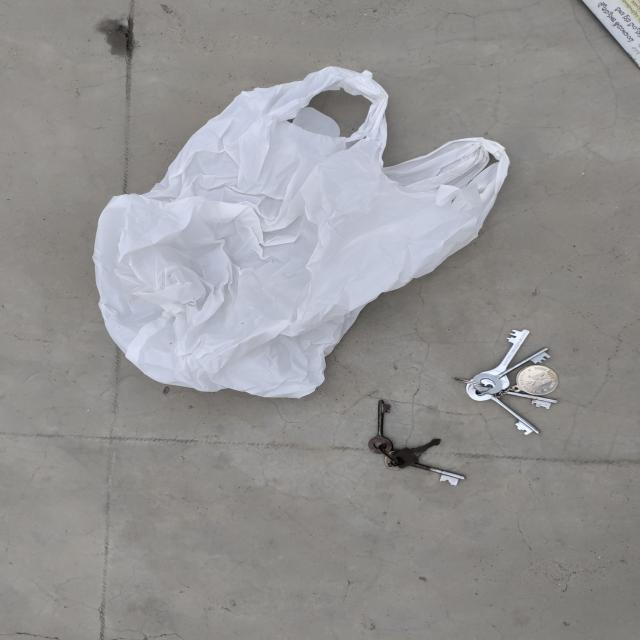metal: (356, 400, 466, 514), (472, 330, 578, 440)
plastic: (65, 34, 364, 402)
